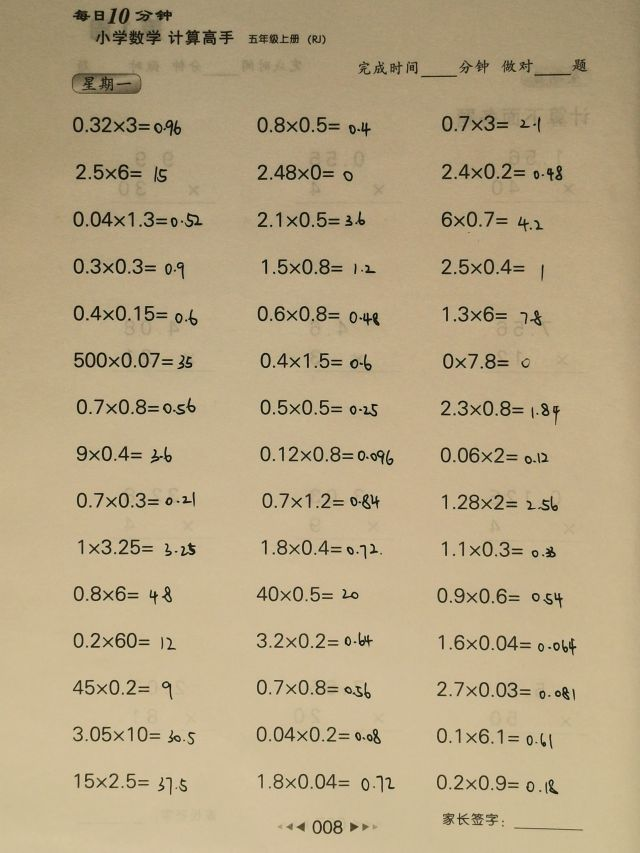equation: (431, 770, 562, 801), (433, 677, 579, 703), (434, 630, 579, 656), (255, 441, 397, 467), (254, 769, 398, 794), (68, 300, 201, 327), (436, 395, 563, 423), (432, 583, 566, 609), (253, 301, 383, 327), (257, 535, 386, 561), (69, 207, 207, 231), (252, 112, 374, 139), (68, 722, 198, 747), (437, 158, 565, 183), (69, 769, 192, 795), (75, 534, 198, 560), (252, 675, 374, 701), (252, 722, 384, 746), (257, 488, 383, 513), (73, 488, 199, 513), (68, 254, 189, 280), (432, 725, 556, 750), (437, 489, 561, 514), (73, 395, 201, 419), (67, 113, 185, 139), (438, 537, 560, 562), (255, 395, 381, 419), (69, 348, 195, 372), (255, 348, 375, 373), (437, 253, 548, 280), (254, 629, 377, 653), (258, 255, 380, 279), (68, 675, 176, 702), (69, 582, 177, 609), (435, 442, 551, 467), (436, 206, 547, 232), (438, 301, 546, 327), (68, 628, 179, 653), (253, 582, 364, 607), (71, 440, 175, 466), (437, 111, 545, 136), (254, 208, 370, 231), (253, 159, 356, 184), (71, 159, 171, 184), (438, 350, 535, 373)
